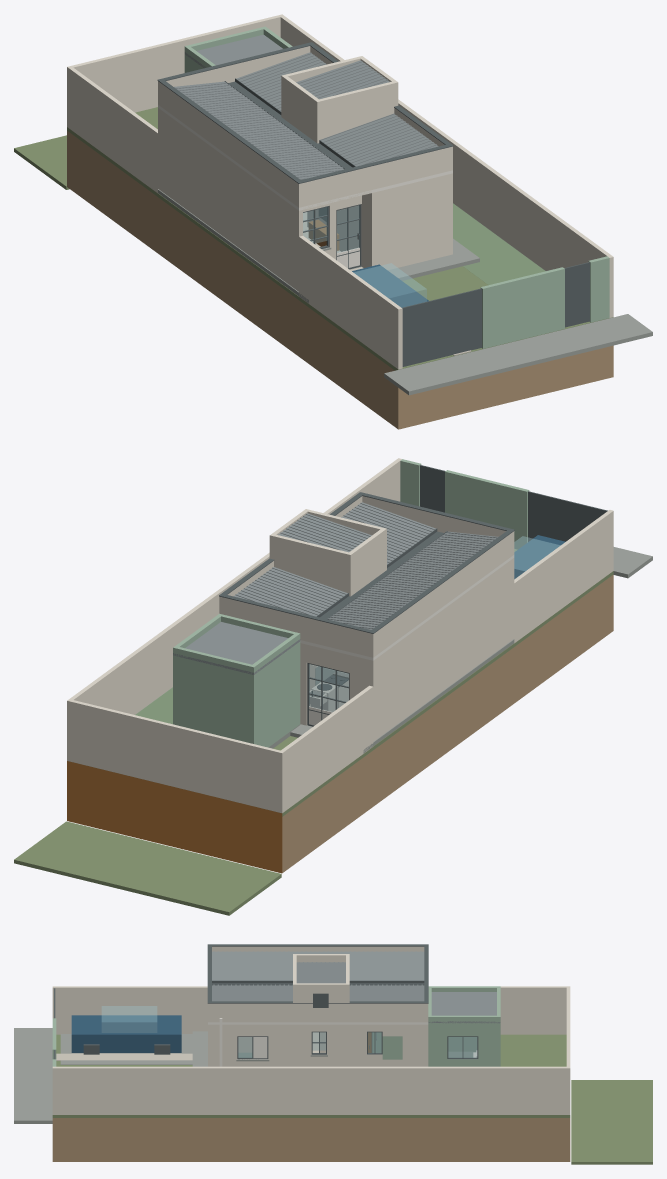
The model's file is casa-bp-opcao-B.glb.
3 renders of one model, top to bottom at view 1: azimuth 30°, elevation 25°; view 2: azimuth 150°, elevation 25°; view 3: azimuth 270°, elevation 25°, orthographic. The views are drawn at different scales.
Parts seen in each view (by area): view 1: Solo em corte esquemático — perfil lateral não levantado, Muro lateral na divisa da casa — 2,00 m (×2), Parede cega / divisa do desenho, Muro lateral direito do desenho — 2,00 m, Passeio público — contexto ilustrativo, Terreno 7,50 × 20,00 m — cota plana provisória, Fechamento frontal com acessos sugeridos (×2), Frente dormitório 1, Portão sugerido — posição a confirmar (×2), Muro fundos — 2,00 m sobre terreno, Platibanda frente / fundo (×2), Volume elevado caixa d’água (×2) (+18 smaller); view 2: Solo em corte esquemático — perfil lateral não levantado, Face indicativa de contenção — 2 m estimados; seção e fundaç, Muro fundos — 2,00 m sobre terreno, Muro lateral na divisa da casa — 2,00 m (×2), Referência do nível do vizinho — extensão apenas ilustrativa, Parede cega / divisa do desenho, Muro lateral direito do desenho — 2,00 m, B — fundo novo, Platibanda frente / fundo (×2), Fechamento frontal com acessos sugeridos (×2), Volume elevado caixa d’água (×2), Pano 1 — social (+19 smaller); view 3: Muro lateral direito do desenho — 2,00 m, Solo em corte esquemático — perfil lateral não levantado, Muro lateral na divisa da casa — 2,00 m (×2), Referência do nível do vizinho — extensão apenas ilustrativa, Lateral existente — só janela do quarto reorganizada em B (×5), Platibanda lateral (×2), Pano 1 — social, Terreno 7,50 × 20,00 m — cota plana provisória, Carro compacto — referência 1,75 × 4,25 m, Passeio público — contexto ilustrativo, B — lateral nova da ampliação (×3), Volume elevado caixa d’água (×2) (+16 smaller).
Boxes of the visible parts, box(x1,y1,x2,y2) form: Solo em corte esquemático — perfil lateral não levantado: box(67, 131, 613, 429); Muro lateral na divisa da casa — 2,00 m (×2): box(67, 66, 402, 369); Parede cega / divisa do desenho: box(158, 108, 302, 291); Muro lateral direito do desenho — 2,00 m: box(279, 14, 613, 317); Passeio público — contexto ilustrativo: box(384, 314, 652, 395); Terreno 7,50 × 20,00 m — cota plana provisória: box(67, 107, 613, 370); Fechamento frontal com acessos sugeridos (×2): box(480, 256, 609, 348); Frente dormitório 1: box(369, 174, 448, 269); Portão sugerido — posição a confirmar (×2): box(402, 262, 589, 366); Muro fundos — 2,00 m sobre terreno: box(71, 15, 280, 112); Platibanda frente / fundo (×2): box(166, 46, 448, 206); Volume elevado caixa d’água (×2): box(281, 74, 394, 143); Solo em corte esquemático — perfil lateral não levantado: box(282, 574, 613, 872); Face indicativa de contenção — 2 m estimados; seção e fundaç: box(67, 761, 282, 873); Muro fundos — 2,00 m sobre terreno: box(71, 700, 280, 812); Muro lateral na divisa da casa — 2,00 m (×2): box(278, 510, 613, 813); Referência do nível do vizinho — extensão apenas ilustrativa: box(14, 821, 281, 915); Parede cega / divisa do desenho: box(369, 558, 514, 741); Muro lateral direito do desenho — 2,00 m: box(67, 458, 401, 761); B — fundo novo: box(177, 658, 256, 744); Platibanda frente / fundo (×2): box(223, 496, 506, 656); Fechamento frontal com acessos sugeridos (×2): box(400, 459, 529, 549); Volume elevado caixa d’água (×2): box(274, 527, 386, 596); Pano 1 — social: box(329, 531, 498, 629); Muro lateral direito do desenho — 2,00 m: box(52, 1066, 570, 1114); Solo em corte esquemático — perfil lateral não levantado: box(52, 1118, 570, 1161); Muro lateral na divisa da casa — 2,00 m (×2): box(52, 986, 570, 1034); Referência do nível do vizinho — extensão apenas ilustrativa: box(571, 1080, 652, 1164); Lateral existente — só janela do quarto reorganizada em B (×5): box(208, 1024, 428, 1066); Platibanda lateral (×2): box(208, 946, 428, 1022); Pano 1 — social: box(212, 951, 424, 980); Terreno 7,50 × 20,00 m — cota plana provisória: box(52, 1034, 570, 1117); Carro compacto — referência 1,75 × 4,25 m: box(71, 1015, 181, 1052); Passeio público — contexto ilustrativo: box(14, 1028, 52, 1123); B — lateral nova da ampliação (×3): box(428, 1024, 500, 1066); Volume elevado caixa d’água (×2): box(293, 954, 349, 1022).
Bounding box in the file's own units: 8.5 × 6.68 × 24.7.
